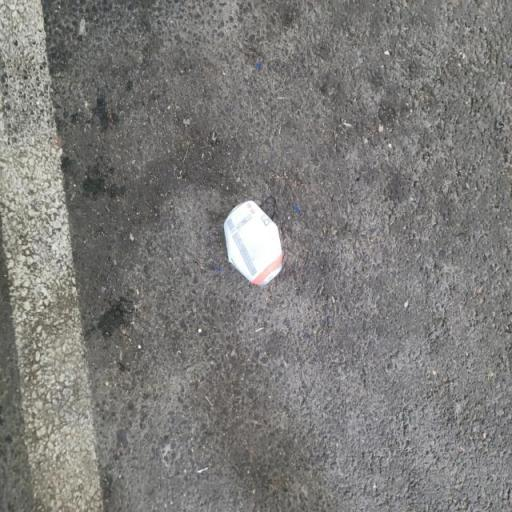metal: (207, 179, 294, 307)
